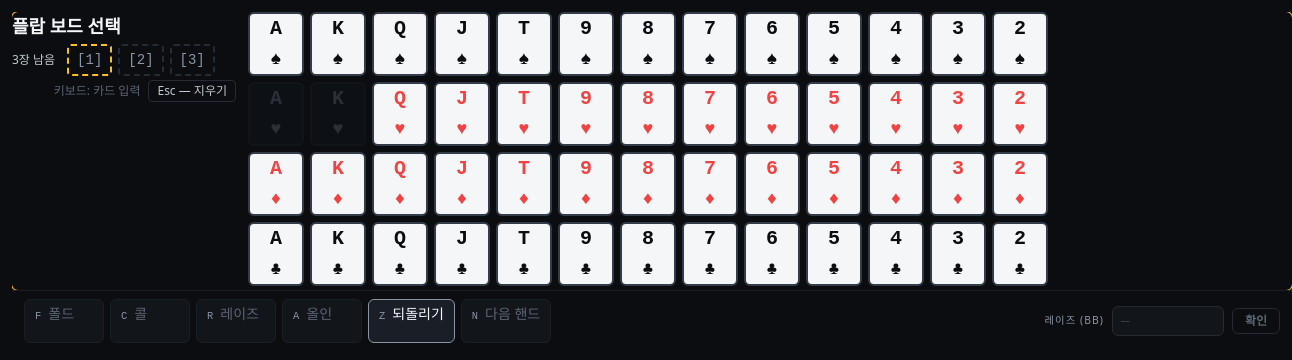
Scenario: CardPalette — taking back ONE card › keeps the IME-proof rank-then-suit path working across a mouse correction
Step 1. Press ㅂ in the element with test id "card-palette"
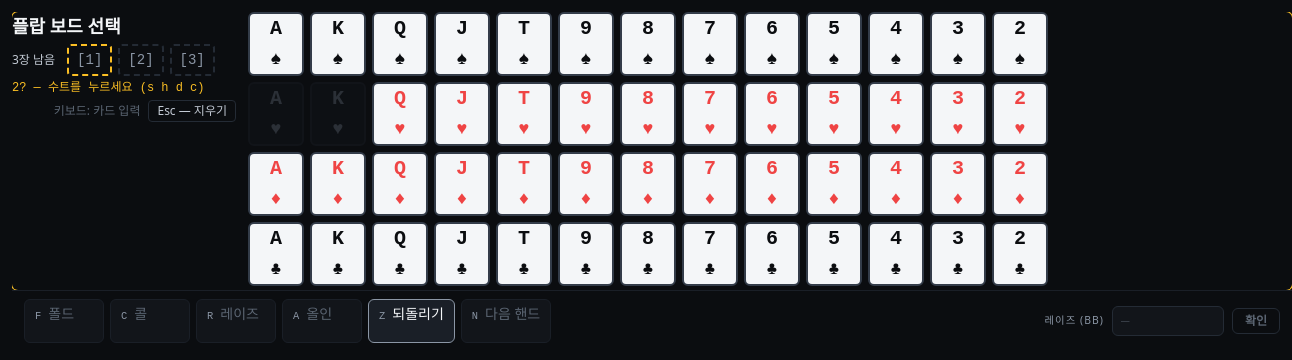
Step 2. Press ㅊ in the element with test id "card-palette"
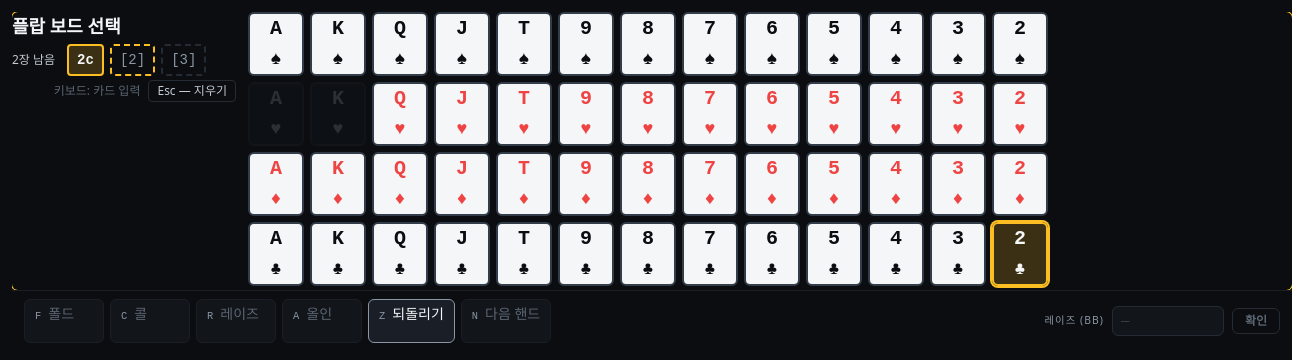
Expected: the button with test id "pick-2c" is shown, [67,44,104,76]
Step 3. Press ㅅ in the element with test id "card-palette"
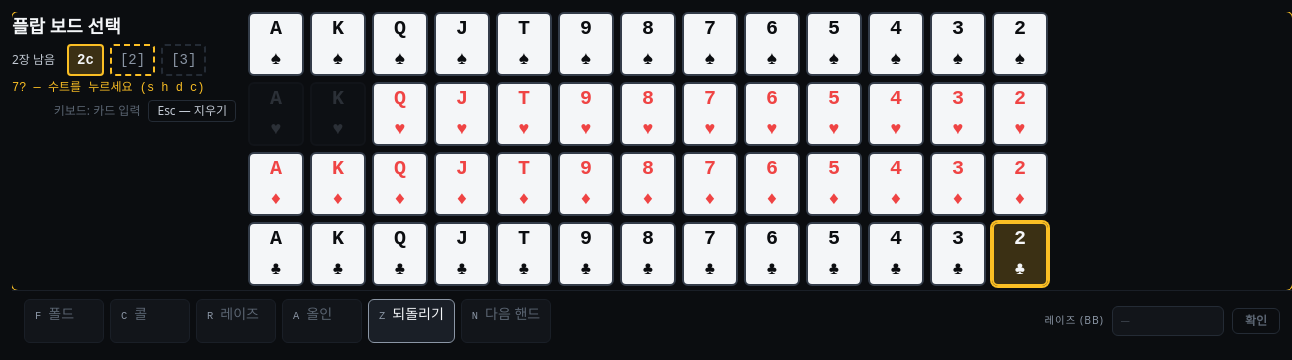
Expected: the text "7? — 수트를 누르세요 (s h d c)" is shown, [12,80,204,96]
Step 4. Click the button with test id "pick-2c" → x=86, y=60, box [67,44,104,76]
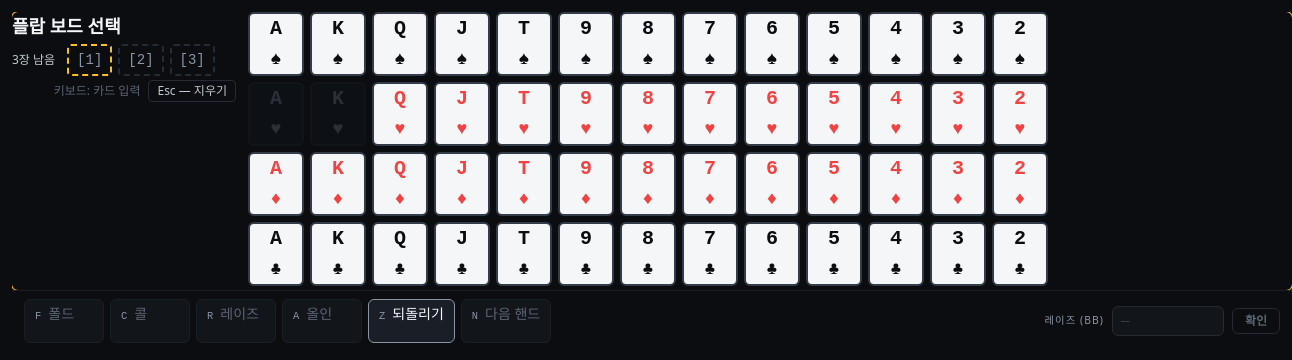
Expected: the text with test id "card-palette-pending" is gone
Step 5. Press ㅅ in the element with test id "card-palette"
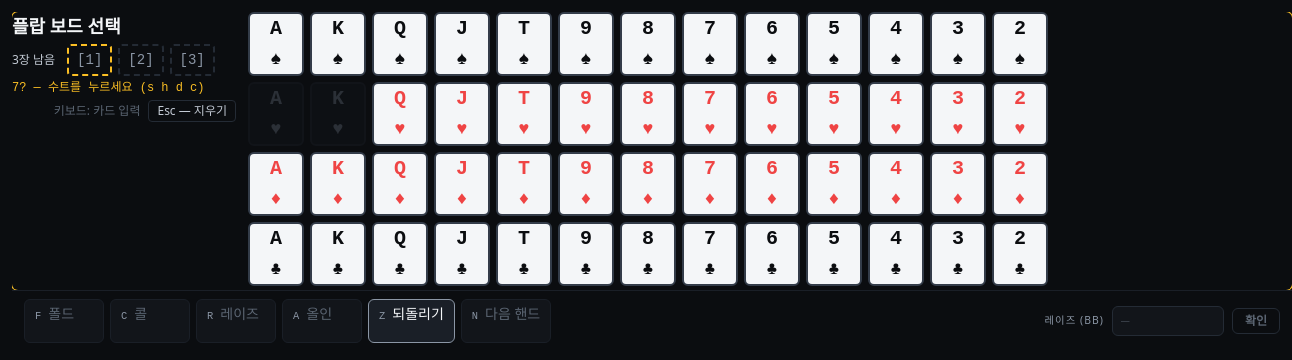
Step 6. Press ㅇ in the element with test id "card-palette"
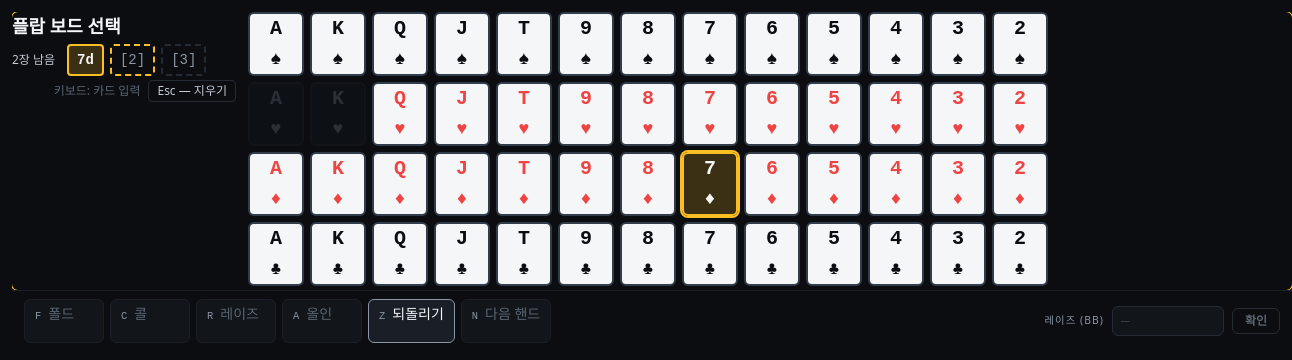
Expected: the button with test id "pick-7d" is shown, [67,44,104,76]
